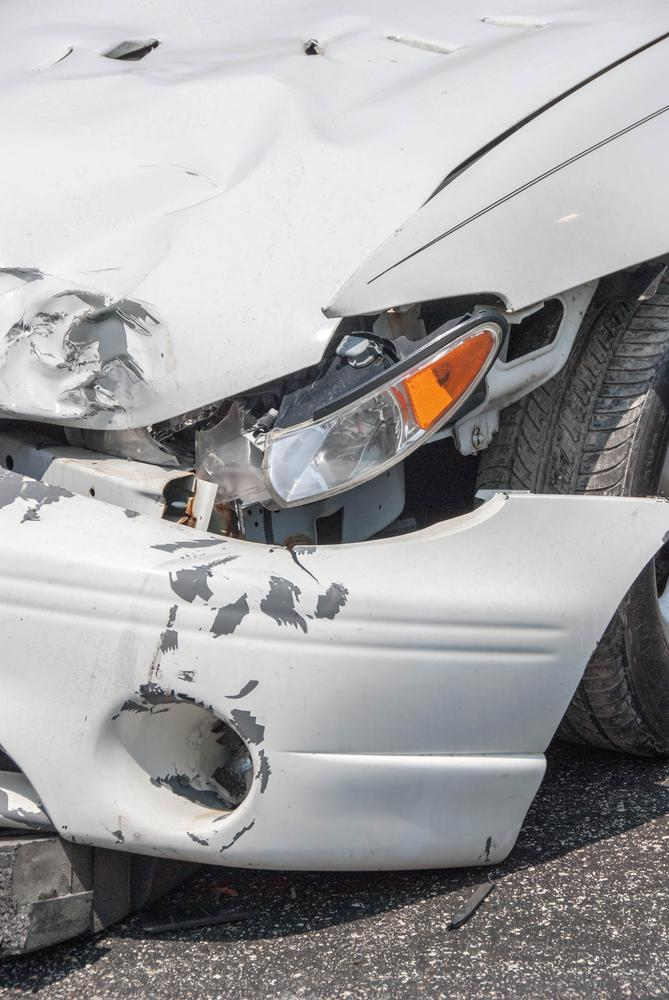crack: (94, 40, 161, 60), (285, 545, 319, 583)
dent: (0, 0, 600, 429)
lamp broken: (198, 299, 506, 503)
scratch: (118, 528, 347, 851)
